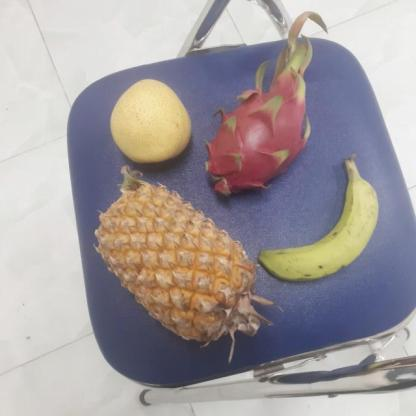banana: (260, 161, 381, 280)
pear: (108, 80, 197, 165)
pineapple: (107, 182, 265, 340)
pitaya: (204, 80, 312, 198)
